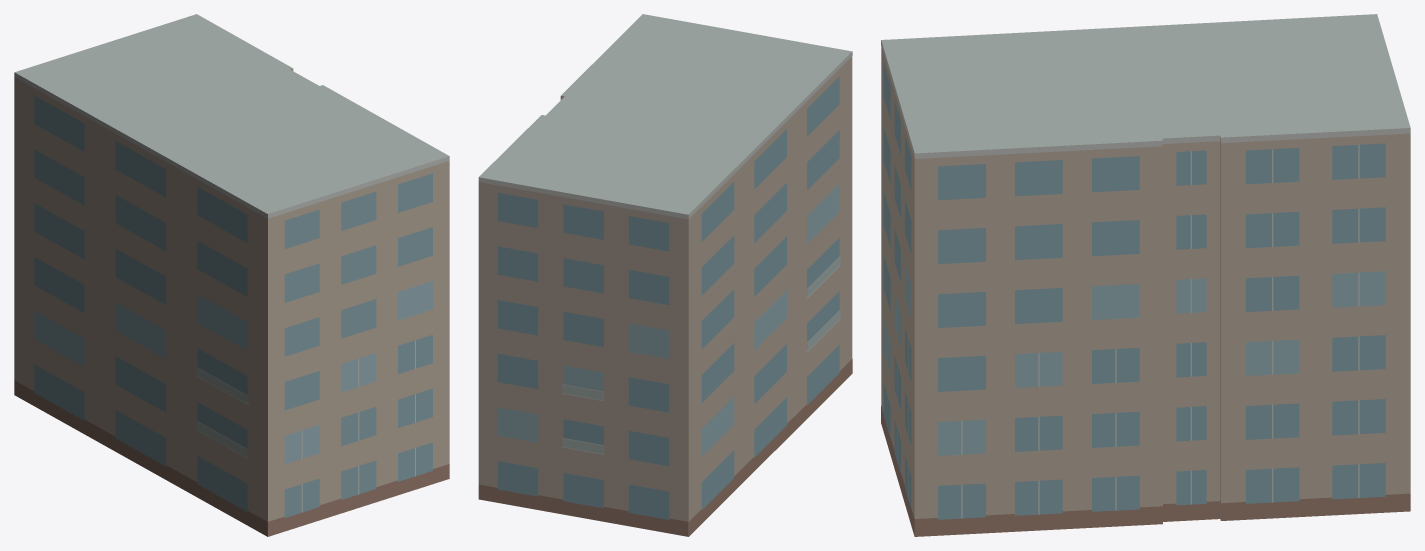
Rendered from survey-upis-32736692.glb.
The picture shows the model from 3 angles, left to right: view 1: azimuth 30°, elevation 25°; view 2: azimuth 150°, elevation 25°; view 3: azimuth 270°, elevation 25°; orthographic projection. The views are drawn at different scales.
Parts seen in each view (by area): view 1: survey-upis-32736692.tmp; view 2: survey-upis-32736692.tmp; view 3: survey-upis-32736692.tmp.
Part boxes in pixels (x1,y1,x2,y2): survey-upis-32736692.tmp: (14,14,449,536); survey-upis-32736692.tmp: (478,14,852,536); survey-upis-32736692.tmp: (881,14,1410,536).
Size of the model in its own units: 13.15 by 16.85 by 21.1.
